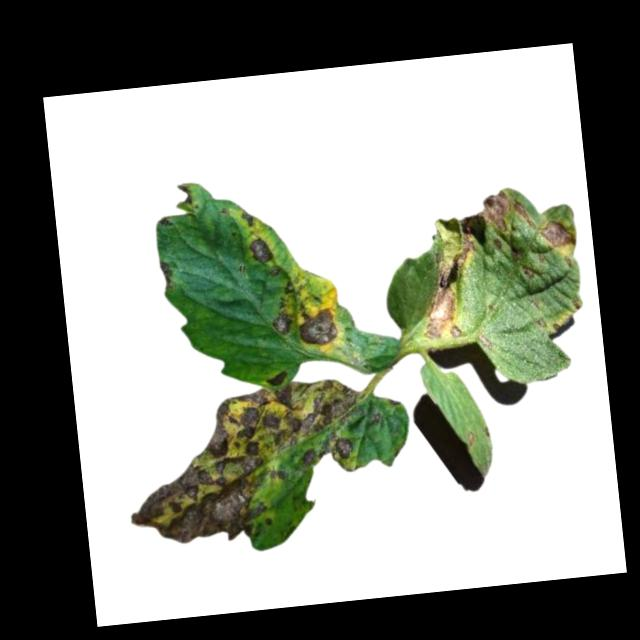Early_blight: (118, 375, 375, 551), (416, 261, 464, 342), (479, 187, 537, 234), (298, 307, 342, 347), (539, 217, 575, 250), (248, 234, 275, 265), (270, 311, 293, 336), (158, 256, 174, 290), (264, 368, 288, 387), (174, 183, 192, 204), (240, 209, 253, 227), (521, 263, 535, 278)
